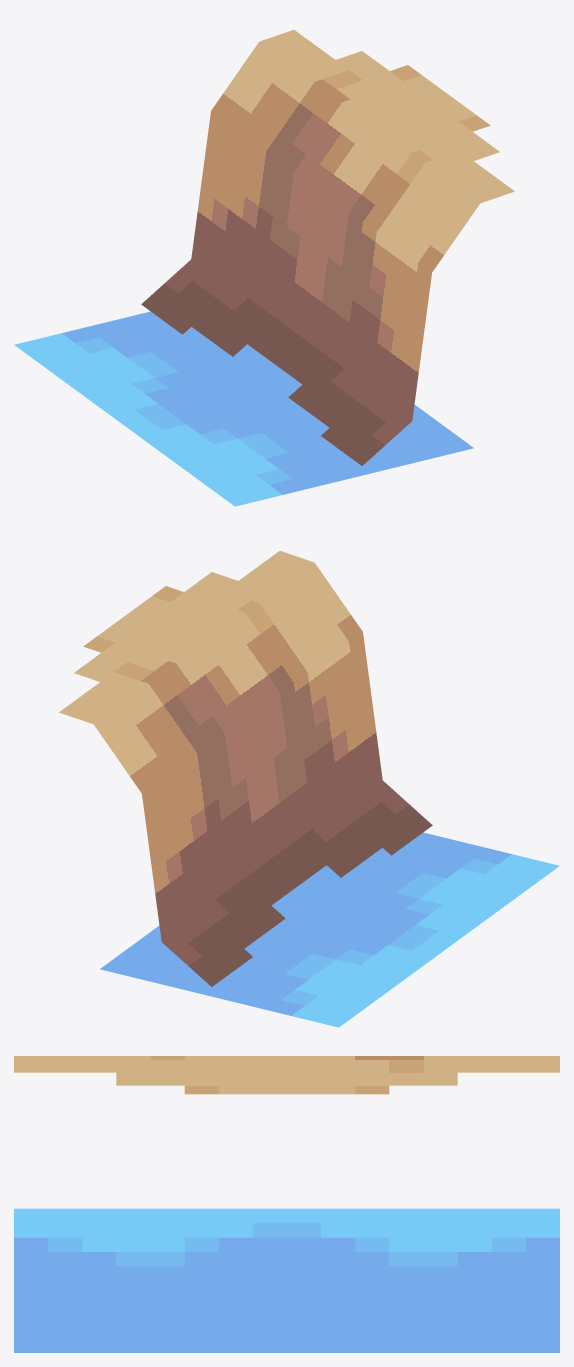
3 renders of one model, top to bottom at view 1: azimuth 30°, elevation 25°; view 2: azimuth 150°, elevation 25°; view 3: azimuth 270°, elevation 25°, orthographic. The views are drawn at different scales.
Size of the model in its own units: 0.8486 by 0.627 by 1.
2 materials, 2 textured.
